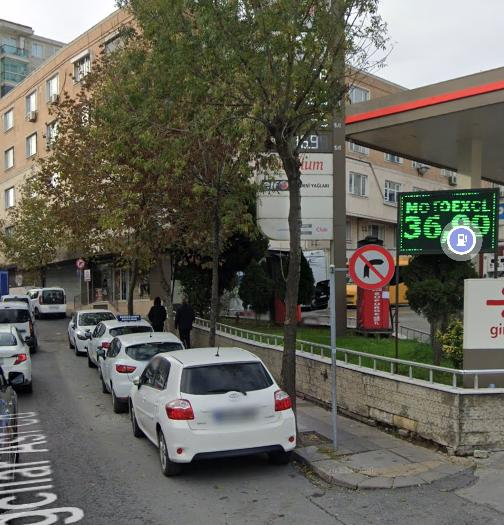rightturnsareforbidden: (351, 245, 393, 286)
